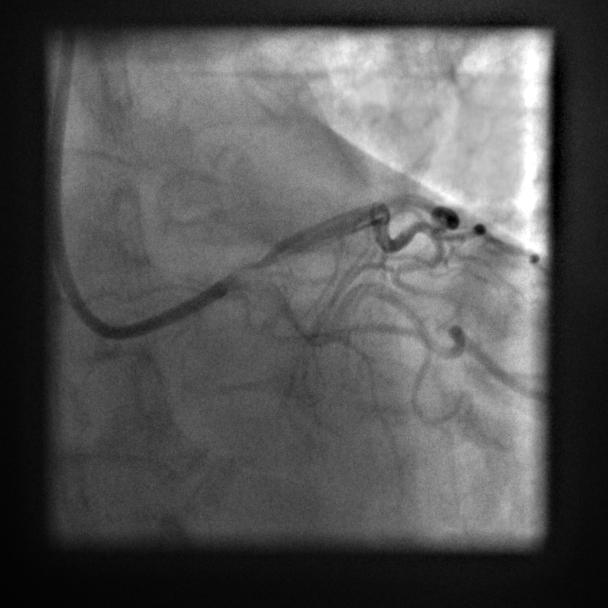Stenosis: (247, 250, 276, 279)
